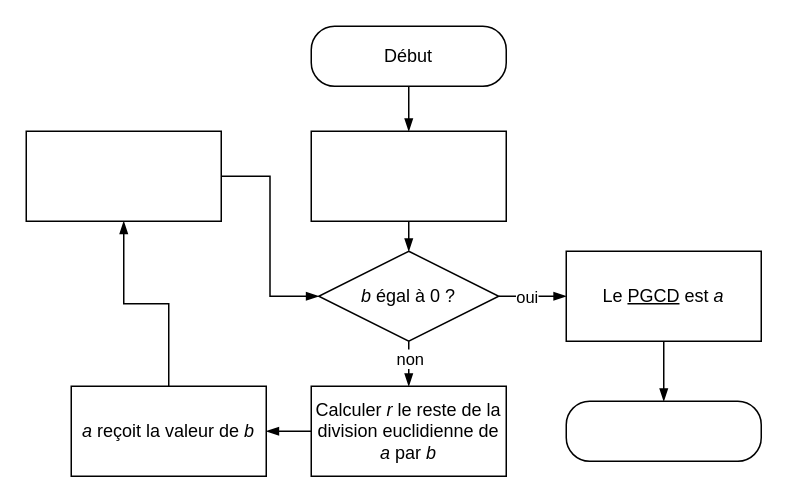
Some shapes in this 788 by 503 pixel diagram are drawn without their labels. The box of each missing label's shape, as (x1, y1, x2, y2) in pixels:
b reçoit la valeur de r: (25, 130, 221, 221)
Fin: (565, 400, 761, 461)
Prendre deux entiers naturels a et b: (310, 130, 506, 221)
